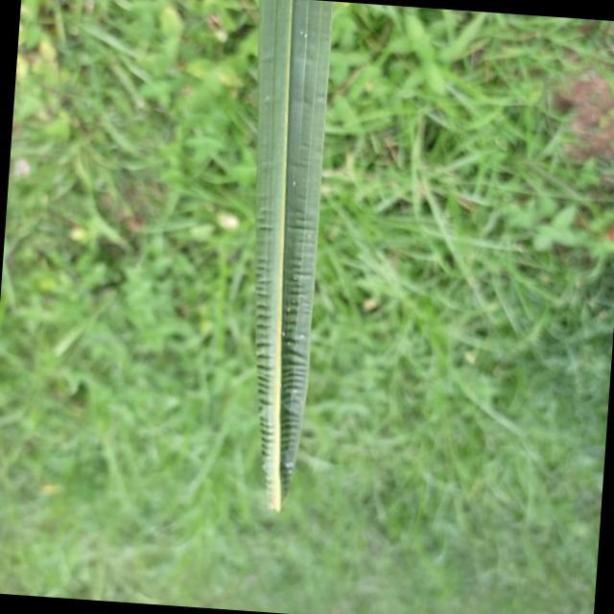Boron: (249, 3, 336, 513)
